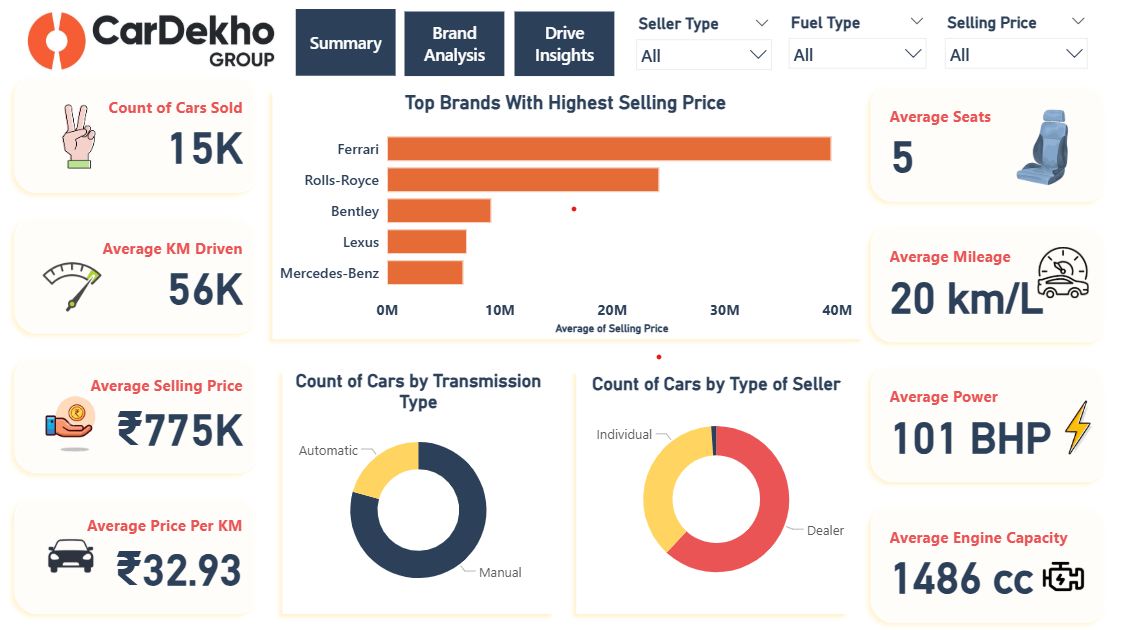

What the dashboard file says about the page in this screenshot:
{"tool":"powerbi","page":{"name":"Summary","canvas":[1280,720],"ordinal":0},"visuals":[{"type":"shape","box":[643,410.2,324.5,292],"z":0},{"type":"cardVisual","fields":{"Data":["cars.Count of Cars","cars.Avg KM Driven","cars.Avg SP","cars.Avg Price Per KM"]},"box":[2.4,67.6,310.1,643],"z":1000},{"type":"image","box":[27.7,108.6,126.7,92.9],"z":2000},{"type":"image","box":[20.5,266.6,126.7,120.6],"z":3000},{"type":"image","box":[18.1,423.5,129.1,117],"z":4000},{"type":"image","box":[26.5,577.9,112.2,100.1],"z":5000},{"type":"shape","box":[301.9,94.7,683.4,297.8],"z":6000},{"type":"clusteredBarChart","title":"Top Brands With Highest Selling Price","fields":{"Y":["cars.selling_price"],"Category":["cars.brand","cars.car_name"]},"box":[312.9,104.3,655.9,278.6],"z":7000},{"type":"cardVisual","fields":{"Data":["cars.Avg Seats","cars.Avg Mileage","cars.Avg Power STR","cars.Avg Eng Capacity STR"]},"box":[967.6,77.2,302.8,643],"z":8000},{"type":"shape","box":[312.5,410.2,324.5,292],"z":9000},{"type":"donutChart","fields":{"Y":["cars.Count of Cars"],"Category":["cars.seller_type"]},"box":[653.2,421.3,314.2,262.1],"z":10000},{"type":"donutChart","fields":{"Y":["cars.Count of Cars"],"Category":["cars.transmission_type"]},"box":[326.6,418.5,296.4,269],"z":11000},{"type":"image","box":[1167.8,431.9,102.5,101.3],"z":12000},{"type":"image","box":[1167.8,618.9,67.6,65.1],"z":13000},{"type":"image","box":[1119.6,108.6,115.8,117],"z":14000},{"type":"image","box":[1167.8,275.1,67.6,67.6],"z":15000},{"type":"image","box":[27.4,0,293.7,94.7],"z":16000},{"type":"actionButton","box":[336.2,11,112.5,75.5],"z":17000},{"type":"actionButton","box":[459.7,13.7,112.5,72.7],"z":18000},{"type":"actionButton","box":[583.2,13.7,112.5,72.7],"z":19000},{"type":"slicer","title":"Fuel Type","fields":{"Values":["cars.fuel_type"]},"box":[882.3,11,175.6,70],"z":20000},{"type":"slicer","title":"Fuel Type","fields":{"Values":["cars.selling_price"]},"box":[1058,11,181.1,70],"z":21000},{"type":"slicer","title":"Fuel Type","fields":{"Values":["cars.seller_type"]},"box":[709.4,12.3,172.9,70],"z":22000}]}

Visuals, with their boxes in screenshot pixels (x1, y1, x2, y2), scaled from the page's 1280x720 canvas onto the 1122x630 screenshot:
shape: box=[564, 359, 848, 614]
cardVisual - cars.Count of Cars x cars.Avg KM Driven: box=[2, 59, 274, 622]
image: box=[24, 95, 135, 176]
image: box=[18, 233, 129, 339]
image: box=[16, 371, 129, 473]
image: box=[23, 506, 122, 593]
shape: box=[265, 83, 864, 343]
"Top Brands With Highest Selling Price" clusteredBarChart: box=[274, 91, 849, 335]
cardVisual - cars.Avg Seats x cars.Avg Mileage: box=[848, 68, 1114, 629]
shape: box=[274, 359, 558, 614]
donutChart - cars.Count of Cars x cars.seller_type: box=[573, 369, 848, 598]
donutChart - cars.Count of Cars x cars.transmission_type: box=[286, 366, 546, 602]
image: box=[1024, 378, 1113, 467]
image: box=[1024, 542, 1083, 598]
image: box=[981, 95, 1083, 197]
image: box=[1024, 241, 1083, 300]
image: box=[24, 0, 281, 83]
actionButton: box=[295, 10, 393, 76]
actionButton: box=[403, 12, 502, 76]
actionButton: box=[511, 12, 610, 76]
"Fuel Type" slicer: box=[773, 10, 927, 71]
"Fuel Type" slicer: box=[927, 10, 1086, 71]
"Fuel Type" slicer: box=[622, 11, 773, 72]
